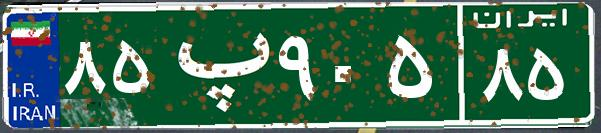0: (330, 28, 385, 110)
5: (385, 28, 445, 110), (110, 28, 158, 105), (525, 38, 570, 115)
8: (57, 26, 110, 107), (475, 38, 525, 113)
9: (273, 28, 330, 110)
پ: (158, 15, 273, 115)
